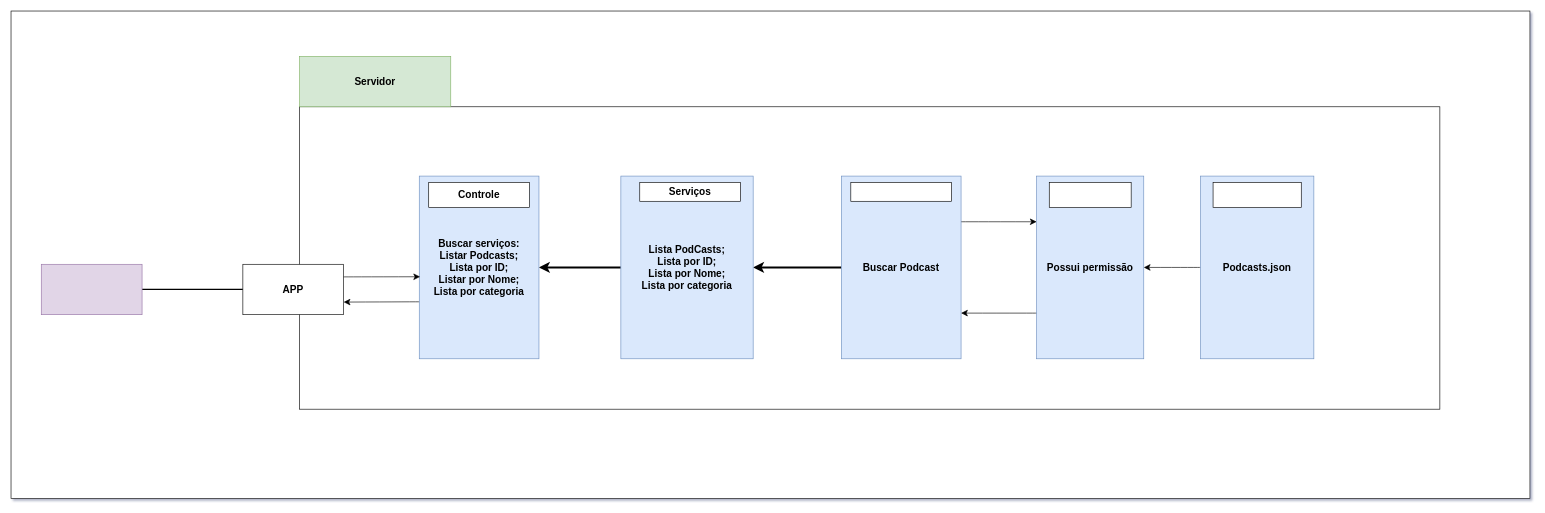
This 1545x513 diagram has some shape labels left out. Here are the shapes that lost their labels. From the top down, the centre of each, then its label:
At (901,191): "Repositório".
At (1090,195): "Autorização".
At (1256,195): "Banco de dados".
At (91,289): "Porta: 3000".
